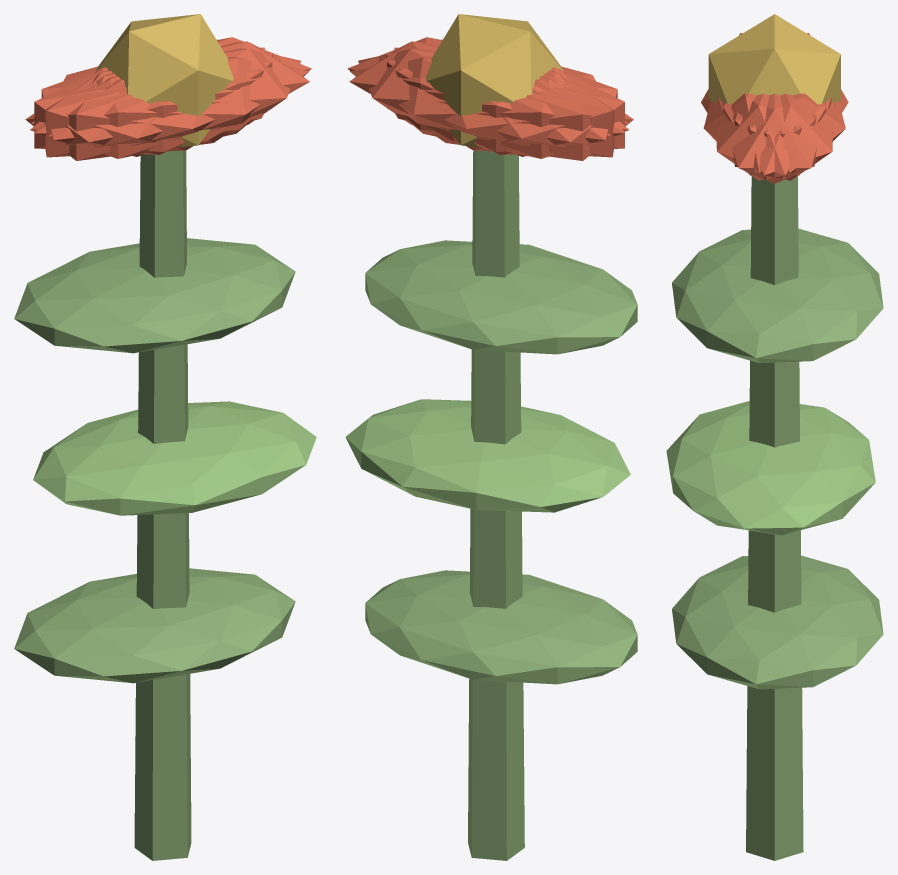
Rendered from rungia-pectinata.glb.
3 renders of one model, left to right at view 1: azimuth 30°, elevation 25°; view 2: azimuth 150°, elevation 25°; view 3: azimuth 270°, elevation 25°, orthographic.
Parts seen in each view (by area): view 1: stem, leaf2, leaf1, leaf0, center, petal1, petal6, petal2, petal5, petal7, petal0, petal4 (+2 smaller); view 2: stem, leaf2, leaf0, leaf1, center, petal8, petal3, petal7, petal4, petal2, petal0, petal5 (+2 smaller); view 3: stem, leaf1, leaf2, leaf0, center, petal0, petal5, petal4, petal1, petal8.
Boxes of the visible parts, x1,y1,x2,y2 form: stem: (134, 150, 191, 860); leaf2: (14, 238, 295, 353); leaf1: (33, 401, 316, 515); leaf0: (14, 568, 295, 683); center: (96, 14, 233, 147); petal1: (30, 56, 309, 158); petal6: (25, 69, 227, 160); petal2: (45, 47, 264, 157); petal5: (49, 48, 301, 151); petal7: (34, 53, 272, 154); petal0: (96, 41, 309, 141); petal4: (31, 37, 311, 133); stem: (468, 150, 524, 860); leaf2: (365, 240, 637, 354); leaf0: (365, 570, 637, 684); leaf1: (345, 399, 630, 512); center: (425, 14, 563, 147); petal8: (350, 56, 628, 158); petal3: (431, 69, 633, 160); petal7: (394, 47, 614, 157); petal4: (358, 48, 610, 151); petal2: (386, 53, 624, 154); petal0: (349, 41, 563, 141); petal5: (347, 37, 627, 133); stem: (746, 176, 803, 860); leaf1: (666, 401, 875, 535); leaf2: (672, 228, 883, 363); leaf0: (672, 555, 883, 689); center: (708, 14, 840, 104); petal0: (718, 93, 831, 183); petal5: (716, 93, 826, 180); petal4: (723, 94, 833, 180); petal1: (703, 93, 816, 172); petal8: (733, 93, 845, 172).
Bounding box in the file's own units: 0.148 × 0.4171 × 0.1005.
